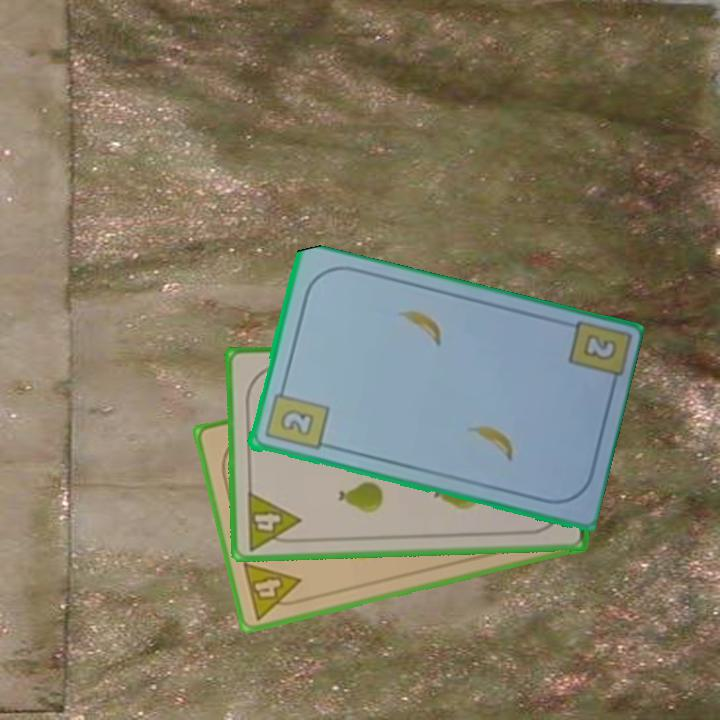2b: (261, 381, 331, 454), (578, 330, 620, 364)
4p: (239, 558, 308, 623), (242, 488, 304, 553)
